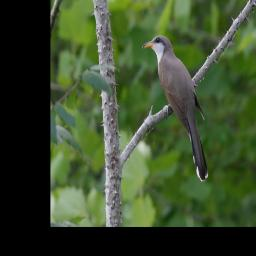Cuckoo: (142, 33, 211, 183)
